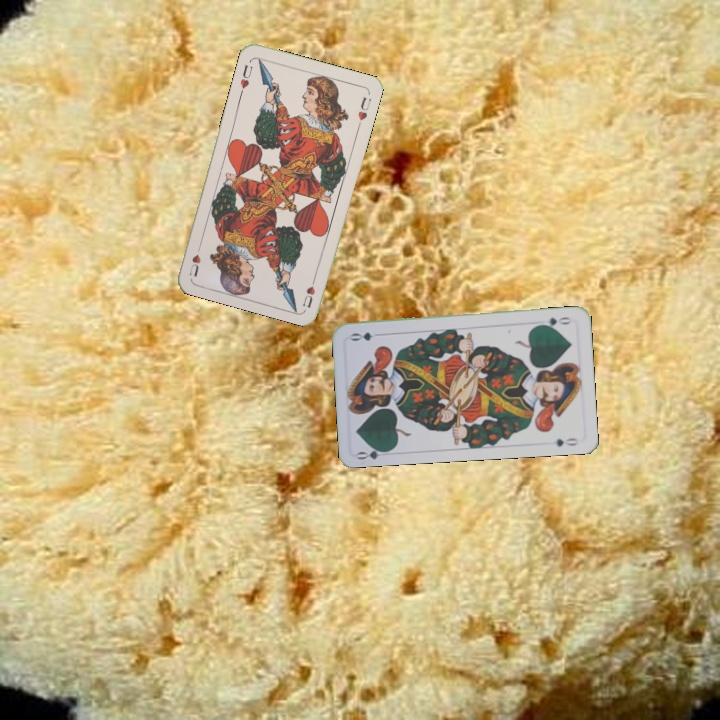GO: (353, 442, 394, 462), (534, 313, 574, 330)
HU: (299, 271, 319, 310), (236, 60, 255, 91)
